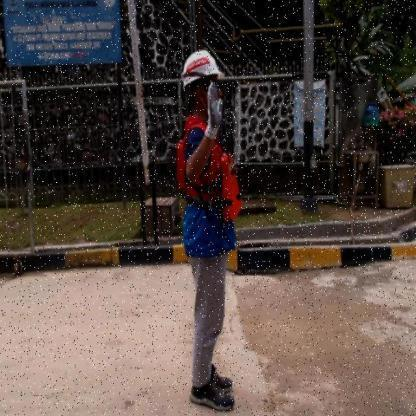boots: (189, 382, 236, 414), (209, 362, 233, 394)
gloves: (206, 82, 221, 141)
helmet: (181, 49, 226, 87)
vest: (173, 135, 243, 224)
